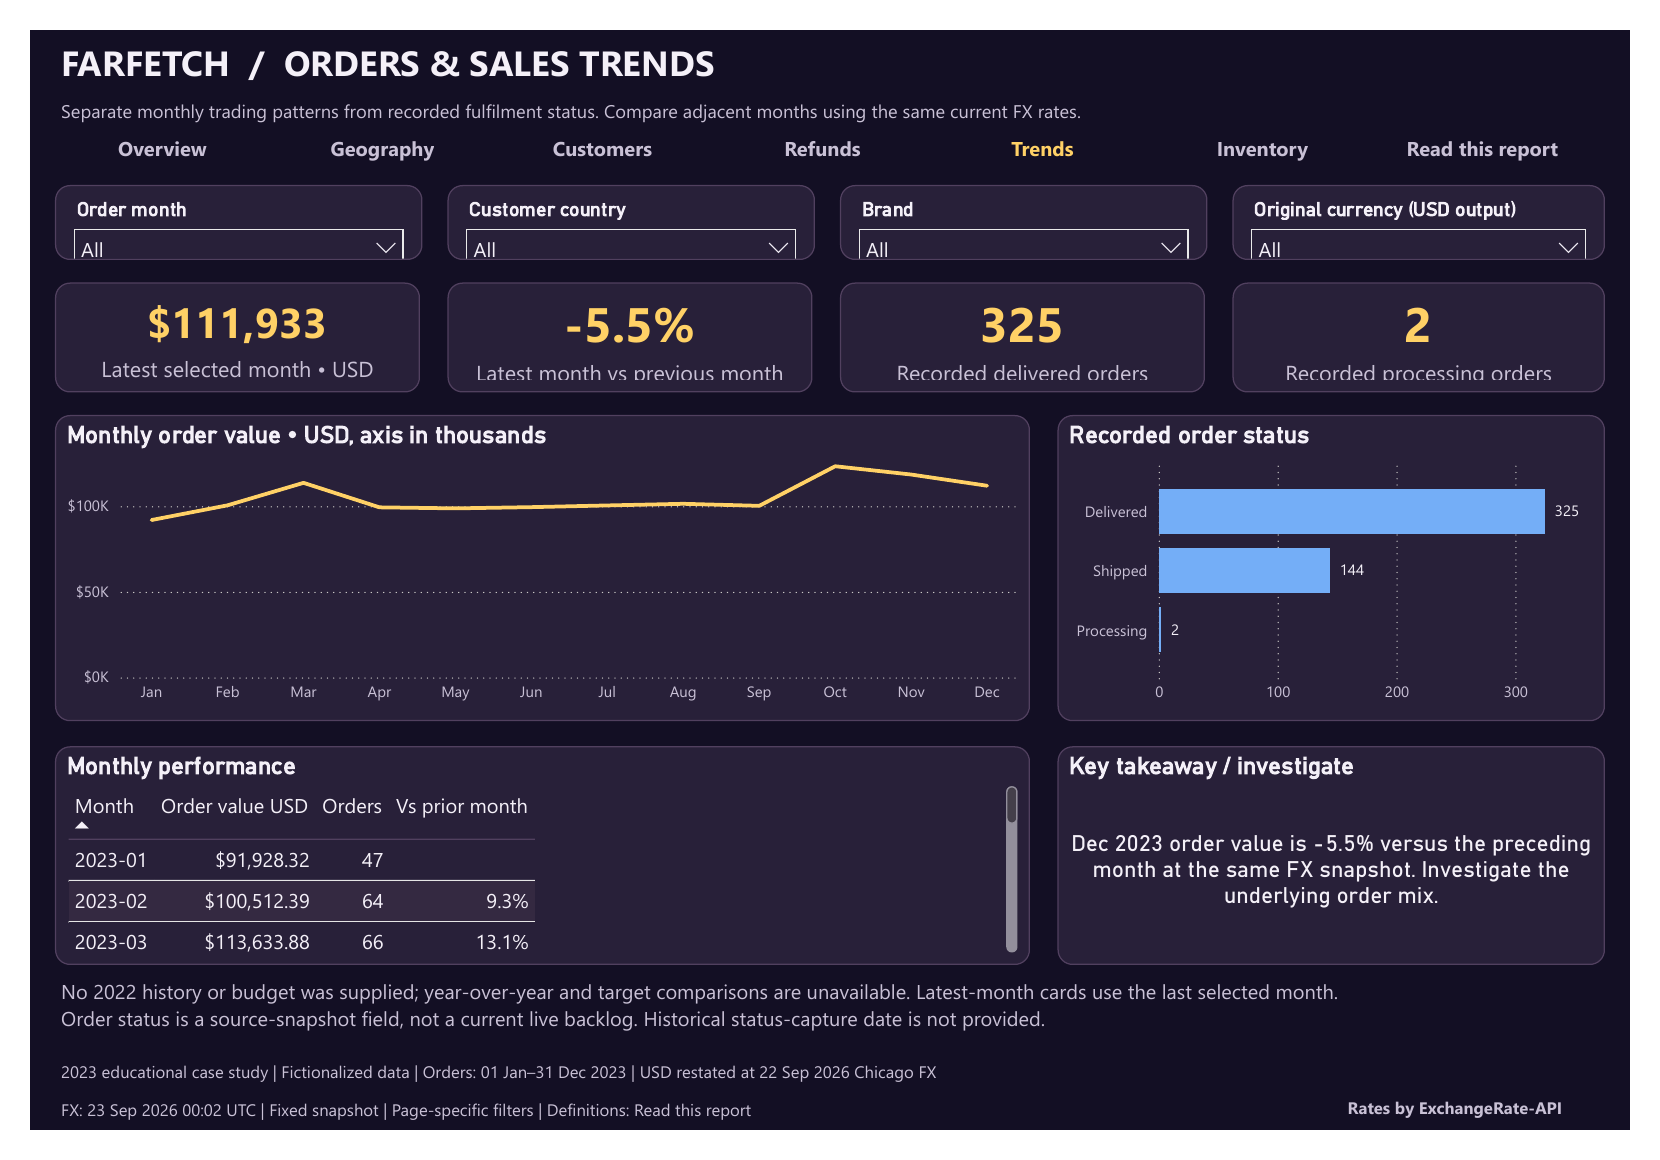

Layout of this report page (visuals, bound fields, positions):
{"tool":"powerbi","page":{"name":"Orders & Sales Trends","canvas":[1280,880],"ordinal":4},"visuals":[{"type":"textbox","box":[20,2,1238,48],"z":9700},{"type":"textbox","box":[20,50,1238,30],"z":9800},{"type":"actionButton","box":[20,78,172,32],"z":9900},{"type":"actionButton","box":[196,78,172,32],"z":10000},{"type":"actionButton","box":[372,78,172,32],"z":10100},{"type":"actionButton","box":[548,78,172,32],"z":10200},{"type":"actionButton","box":[724,78,172,32],"z":10300},{"type":"actionButton","box":[900,78,172,32],"z":10400},{"type":"actionButton","box":[1076,78,172,32],"z":10500},{"type":"slicer","fields":{"Values":["Calendar.Year Month"]},"box":[20,124,294,60],"z":10600},{"type":"slicer","fields":{"Values":["customers.country"]},"box":[334,124,294,60],"z":10700},{"type":"slicer","fields":{"Values":["products.brand"]},"box":[648,124,294,60],"z":10800},{"type":"slicer","fields":{"Values":["orders.currency"]},"box":[962,124,298,60],"z":10900},{"type":"textbox","box":[20,820,1240,30],"z":11000},{"type":"textbox","box":[20,850,990,28],"z":11100},{"type":"card","fields":{"Values":["measures (2).Latest Month Value USD"]},"box":[20,202,292,88],"z":11200},{"type":"card","fields":{"Values":["measures (2).Latest Month Change"]},"box":[334,202,292,88],"z":11300},{"type":"card","fields":{"Values":["measures (2).Delivered Orders"]},"box":[648,202,292,88],"z":11400},{"type":"card","fields":{"Values":["measures (2).Processing Orders"]},"box":[962,202,298,88],"z":11500},{"type":"lineChart","title":"Monthly order value • USD, axis in thousands","fields":{"Category":["Calendar.Month"],"Y":["measures (2).Order Value USD"]},"box":[20,308,780,245],"z":11600},{"type":"clusteredBarChart","title":"Recorded order status","fields":{"Category":["orders.order_status"],"Y":["measures (2).Orders"]},"box":[822,308,438,245],"z":11700},{"type":"tableEx","title":"Monthly performance","fields":{"Values":["Calendar.Year Month","measures (2).Order Value USD","measures (2).Orders","measures (2).Monthly Change"]},"box":[20,573,780,175],"z":11800},{"type":"card","title":"Key takeaway / investigate","fields":{"Values":["measures (2).Trend Takeaway"]},"box":[822,573,438,175],"z":11900},{"type":"textbox","box":[20,754,1240,60],"z":12000},{"type":"actionButton","box":[1020,850,240,24],"z":16000}]}

Visuals, with their boxes in screenshot pixels (x1, y1, x2, y2), scaled from the page's 1280x880 canvas onto the 1660x1160 screenshot:
textbox: [left=26, top=3, right=1631, bottom=66]
textbox: [left=26, top=66, right=1631, bottom=105]
actionButton: [left=26, top=103, right=249, bottom=145]
actionButton: [left=254, top=103, right=477, bottom=145]
actionButton: [left=482, top=103, right=706, bottom=145]
actionButton: [left=711, top=103, right=934, bottom=145]
actionButton: [left=939, top=103, right=1162, bottom=145]
actionButton: [left=1167, top=103, right=1390, bottom=145]
actionButton: [left=1395, top=103, right=1618, bottom=145]
slicer - Calendar.Year Month: [left=26, top=163, right=407, bottom=243]
slicer - customers.country: [left=433, top=163, right=814, bottom=243]
slicer - products.brand: [left=840, top=163, right=1222, bottom=243]
slicer - orders.currency: [left=1248, top=163, right=1634, bottom=243]
textbox: [left=26, top=1081, right=1634, bottom=1120]
textbox: [left=26, top=1120, right=1310, bottom=1157]
card - measures (2).Latest Month Value USD: [left=26, top=266, right=405, bottom=382]
card - measures (2).Latest Month Change: [left=433, top=266, right=812, bottom=382]
card - measures (2).Delivered Orders: [left=840, top=266, right=1219, bottom=382]
card - measures (2).Processing Orders: [left=1248, top=266, right=1634, bottom=382]
"Monthly order value • USD, axis in thousands" lineChart: [left=26, top=406, right=1038, bottom=729]
"Recorded order status" clusteredBarChart: [left=1066, top=406, right=1634, bottom=729]
"Monthly performance" tableEx: [left=26, top=755, right=1038, bottom=986]
"Key takeaway / investigate" card: [left=1066, top=755, right=1634, bottom=986]
textbox: [left=26, top=994, right=1634, bottom=1073]
actionButton: [left=1323, top=1120, right=1634, bottom=1152]
